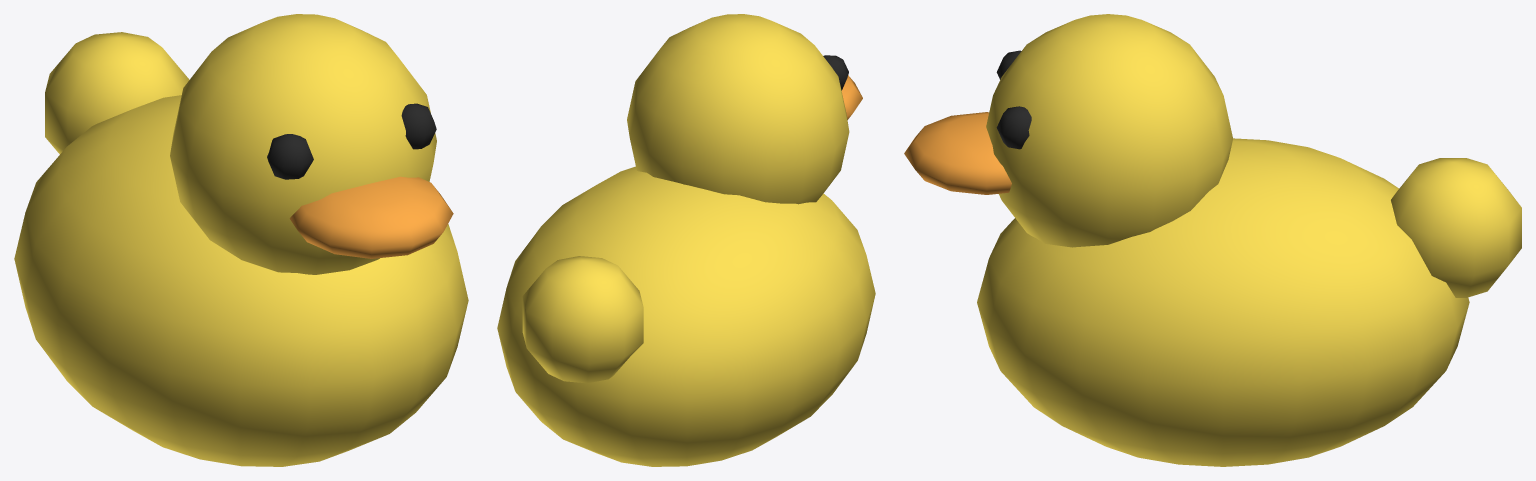
The model's file is rubber_duck.mobile.glb.
The picture shows the model from 3 angles, left to right: view 1: azimuth 30°, elevation 25°; view 2: azimuth 150°, elevation 25°; view 3: azimuth 270°, elevation 25°; orthographic projection. The views are drawn at different scales.
Visible parts, largest first — view 1: Duck; view 2: Duck; view 3: Duck.
Part boxes in pixels (x1,y1,x2,y2): Duck: (14,14,468,466); Duck: (497,14,875,466); Duck: (904,14,1521,466).
Size of the model in its own units: 0.12 by 0.141 by 0.1881.
